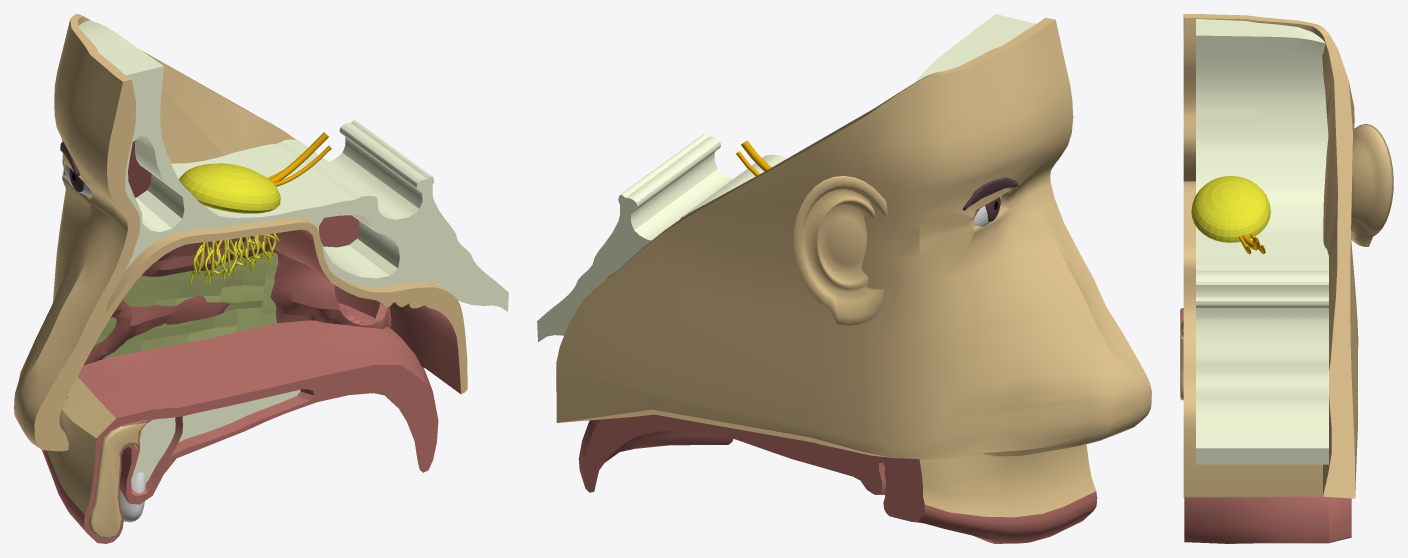
The model's file is nose.glb.
The picture shows the model from 3 angles, left to right: view 1: azimuth 30°, elevation 25°; view 2: azimuth 150°, elevation 25°; view 3: azimuth 270°, elevation 25°; orthographic projection. The views are drawn at different scales.
Parts seen in each view (by area): view 1: Plane.001, Plane.003, Plane.014, Plane.011, Plane.013, Plane.006, Plane.008, Sphere.003, Plane.007, Plane.009, Plane.004, Plane.005 (+3 smaller); view 2: Plane.014, Plane.003, Plane.001, Plane.009, Sphere.002, Plane.012; view 3: Plane.001, Plane.013, Plane.012, Plane.003, Sphere.002, Sphere.003, Plane.014, Plane.005.
Part boxes in pixels (left/top/right/bottom): Plane.001: left=78, top=20, right=508, bottom=311; Plane.003: left=42, top=303, right=438, bottom=543; Plane.014: left=14, top=19, right=127, bottom=449; Plane.011: left=34, top=79, right=467, bottom=451; Plane.013: left=77, top=17, right=453, bottom=313; Plane.006: left=83, top=233, right=391, bottom=365; Plane.008: left=94, top=251, right=278, bottom=358; Sphere.003: left=179, top=163, right=280, bottom=287; Plane.007: left=66, top=229, right=460, bottom=441; Plane.009: left=46, top=377, right=115, bottom=514; Plane.004: left=131, top=389, right=300, bottom=485; Plane.005: left=88, top=421, right=147, bottom=538; Plane.014: left=556, top=20, right=1151, bottom=459; Plane.003: left=578, top=414, right=1097, bottom=543; Plane.001: left=537, top=14, right=1036, bottom=341; Plane.009: left=919, top=444, right=1095, bottom=517; Sphere.002: left=793, top=175, right=888, bottom=325; Plane.012: left=556, top=17, right=1055, bottom=391; Plane.001: left=1196, top=19, right=1328, bottom=464; Plane.013: left=1183, top=18, right=1337, bottom=496; Plane.012: left=1184, top=14, right=1354, bottom=498; Plane.003: left=1181, top=308, right=1351, bottom=543; Sphere.002: left=1351, top=124, right=1393, bottom=246; Sphere.003: left=1191, top=176, right=1270, bottom=242; Plane.014: left=1331, top=82, right=1358, bottom=497; Plane.005: left=1180, top=308, right=1183, bottom=400.
Bounding box in the file's own units: 3.5 × 3.22 × 1.55.
